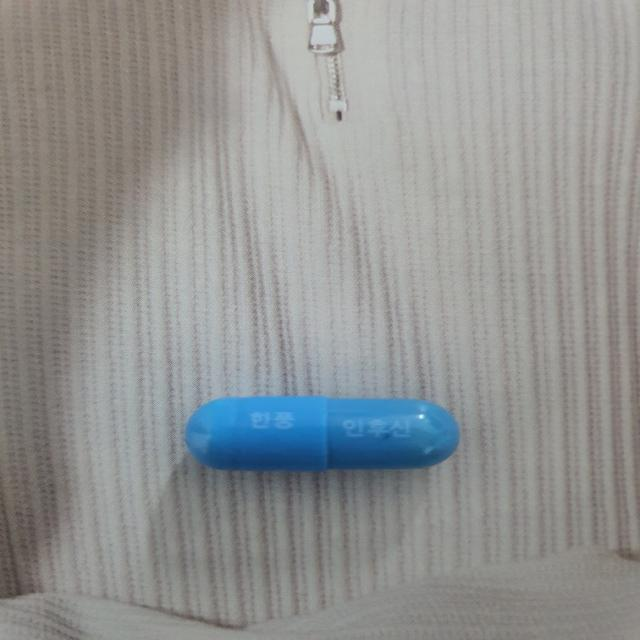pill: (172, 390, 474, 476)
